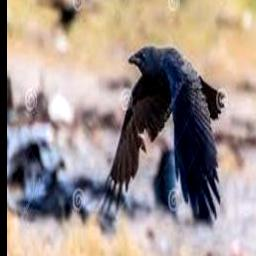Crow: (102, 44, 225, 227)
